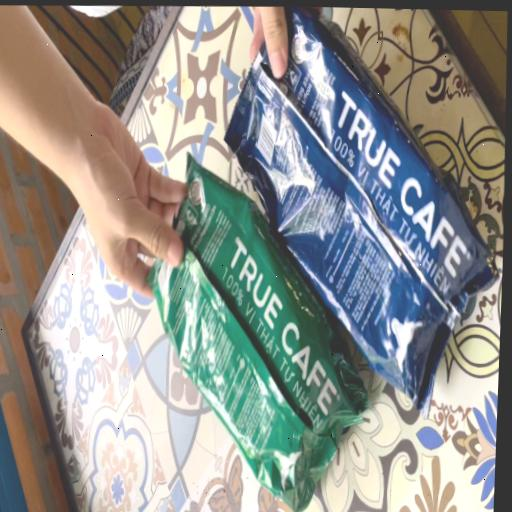cafe_hat: (225, 6, 496, 415)
cafe_xay: (150, 156, 368, 512)
